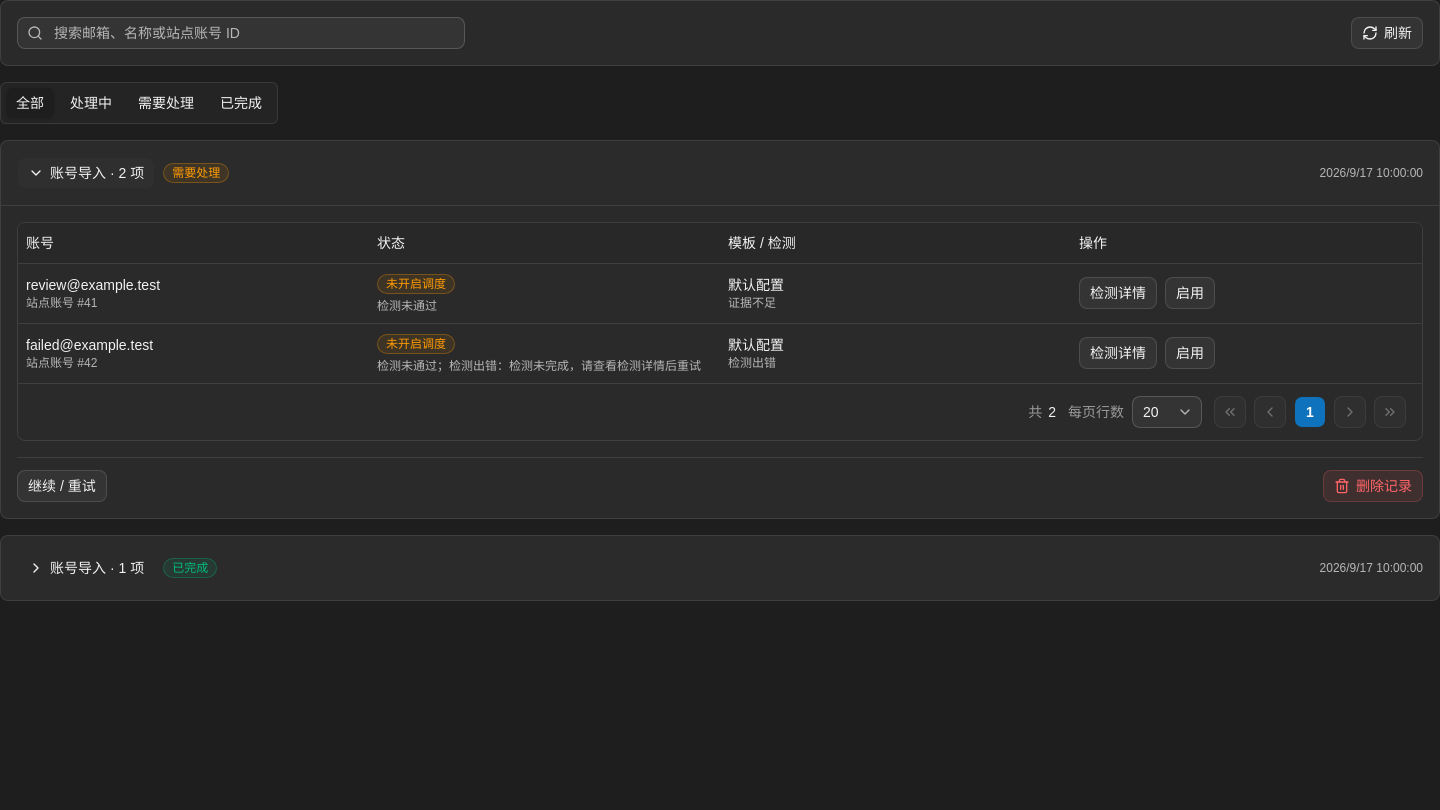
Test case: 处理记录按状态切换 Tab，键盘与搜索保留一致的筛选结果
The image size is (1440, 810).
Click the tab "已完成" at coordinates (241, 103), box [209, 87, 273, 119]
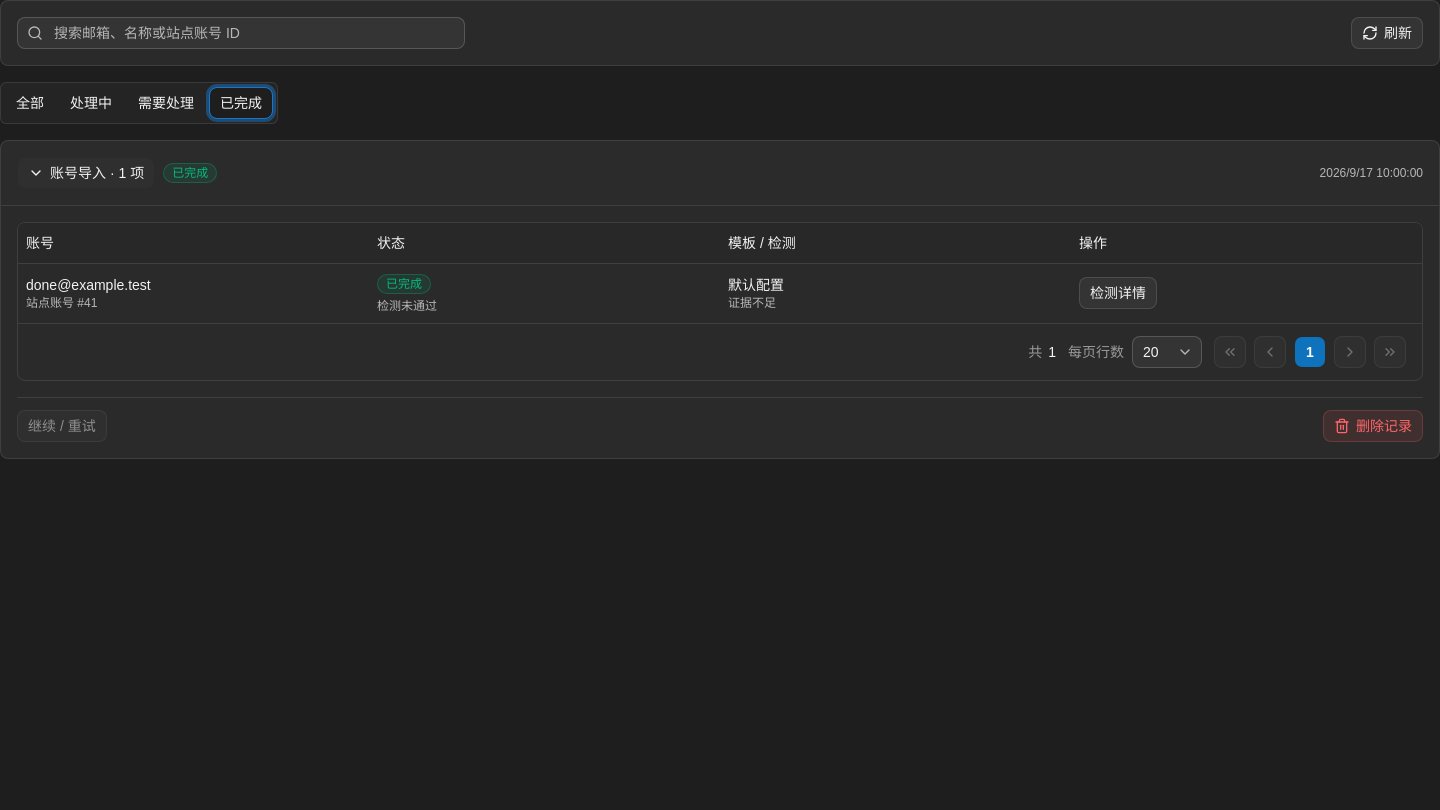
Expected: the text "done@example.test" is shown, [26, 277, 151, 293]
Expected: the text "review@example.test" is gone
Press Arrowleft
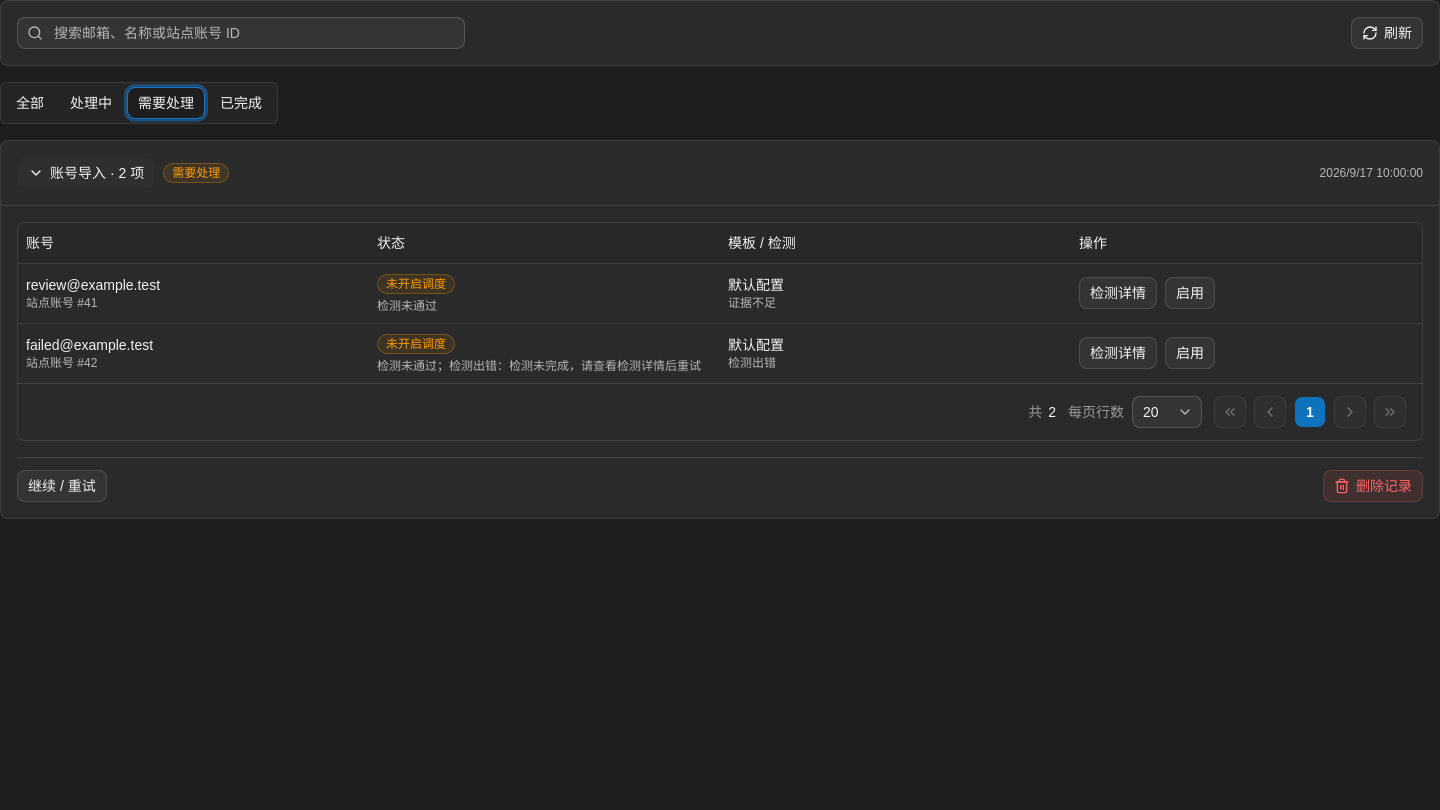
Expected: the text "review@example.test" is shown, [26, 277, 160, 293]
Type "done@" into the search field named "搜索处理记录" at coordinates (241, 33), box [17, 17, 465, 49]
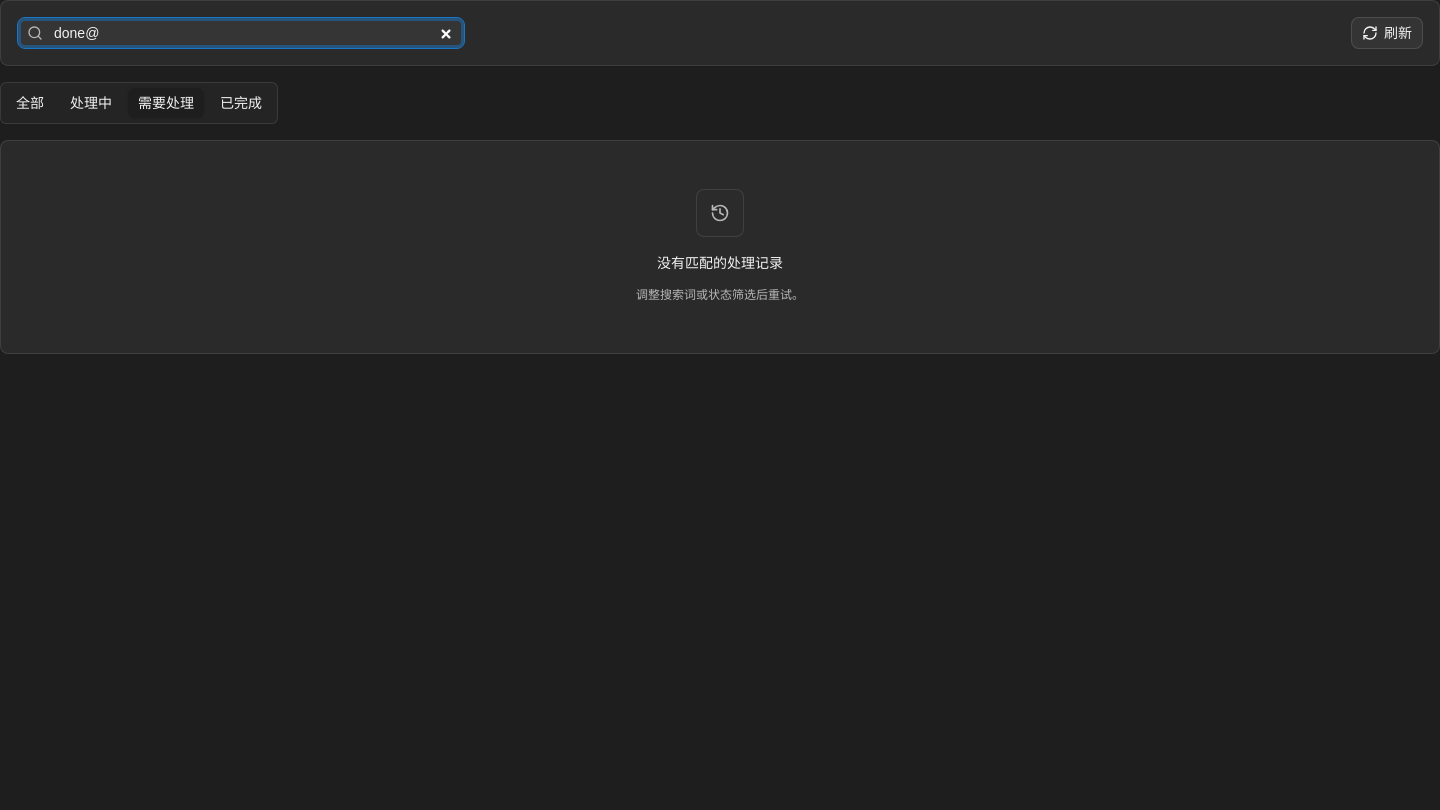
Expected: the text "没有匹配的处理记录" is shown, [657, 253, 783, 273]
